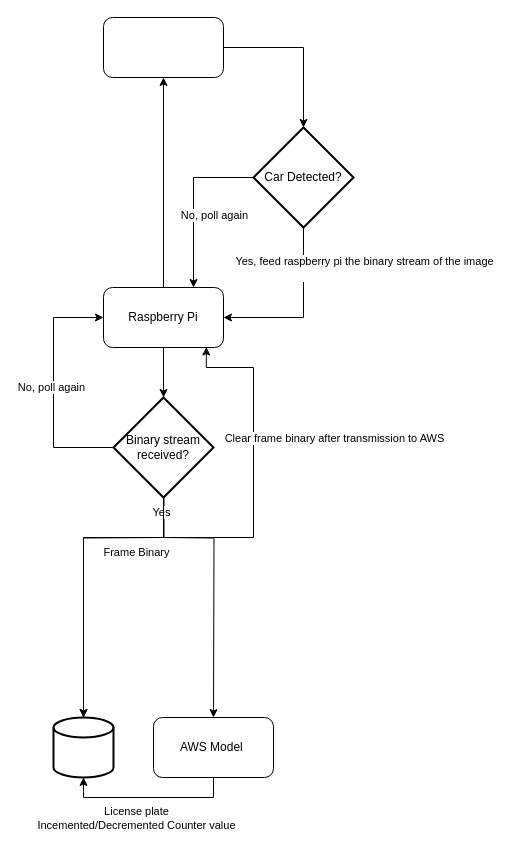
Some shapes in this 510 by 848 pixel diagram are drawn without their labels. The shapes that lost their labels are listed below. From the top down, each one's centre as x and y in pixels, then its label:
[163,47]: Camera
[83,747]: SQL Database
